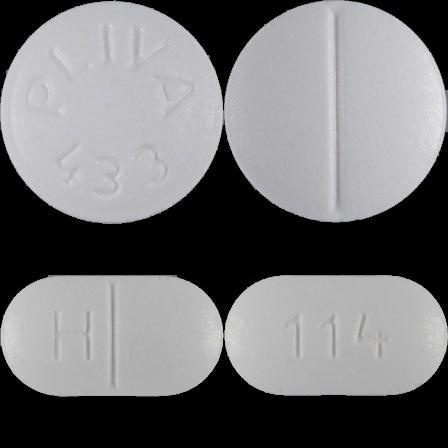63187-086: (0, 0, 224, 224)
